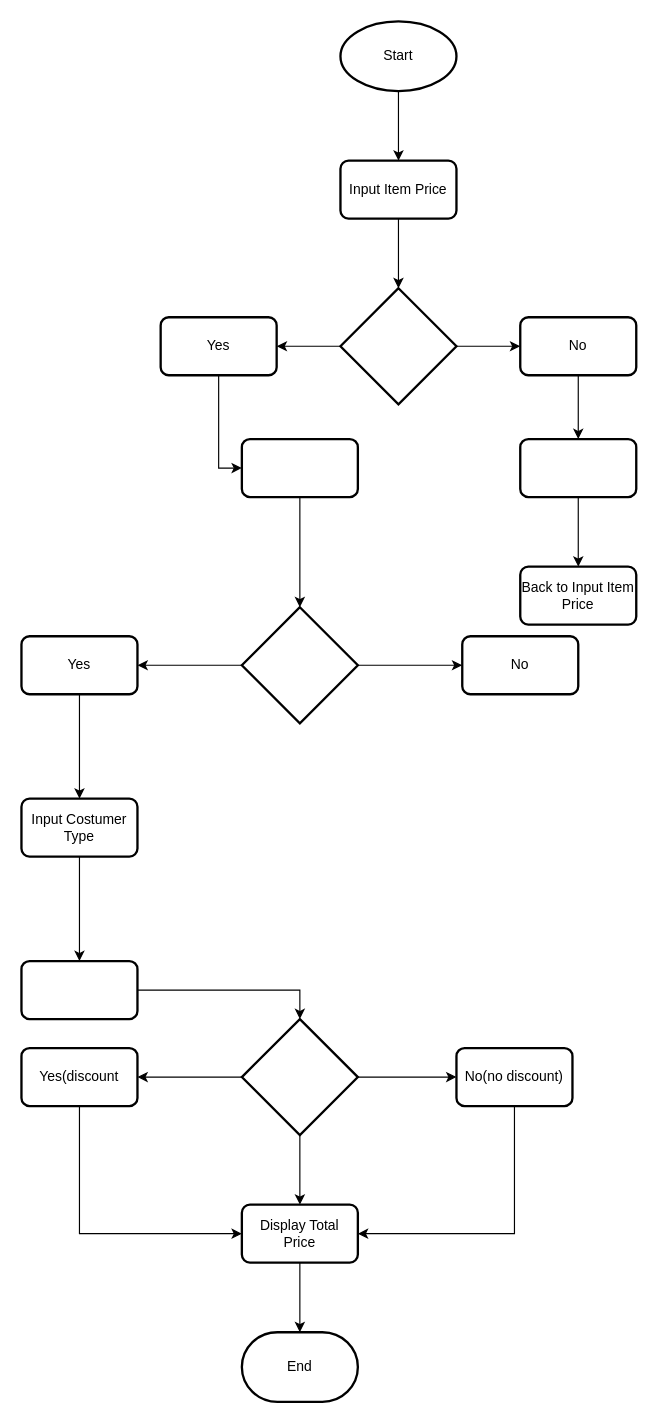
Image size: 657x1422. Some labels were removed from this diagram. The shapes that lost their labels are listed below. From the top down, each one's box as (x1, y1, x2, y2) in pixels, then its label:
(339, 287, 457, 405): Price Valid?
(240, 437, 358, 498): Input Quantity
(519, 437, 637, 498): Display Error
(240, 606, 358, 724): Quantity Valid?
(20, 959, 138, 1020): Costumer Total Price
(240, 1017, 358, 1136): Total Price > $500?
